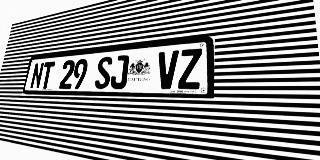2: (59, 59, 76, 89)
9: (71, 58, 89, 89)
J: (110, 55, 129, 89)
N: (30, 62, 45, 89)
S: (94, 56, 113, 89)
T: (40, 61, 55, 89)
V: (156, 50, 179, 89)
Z: (178, 48, 202, 89)
